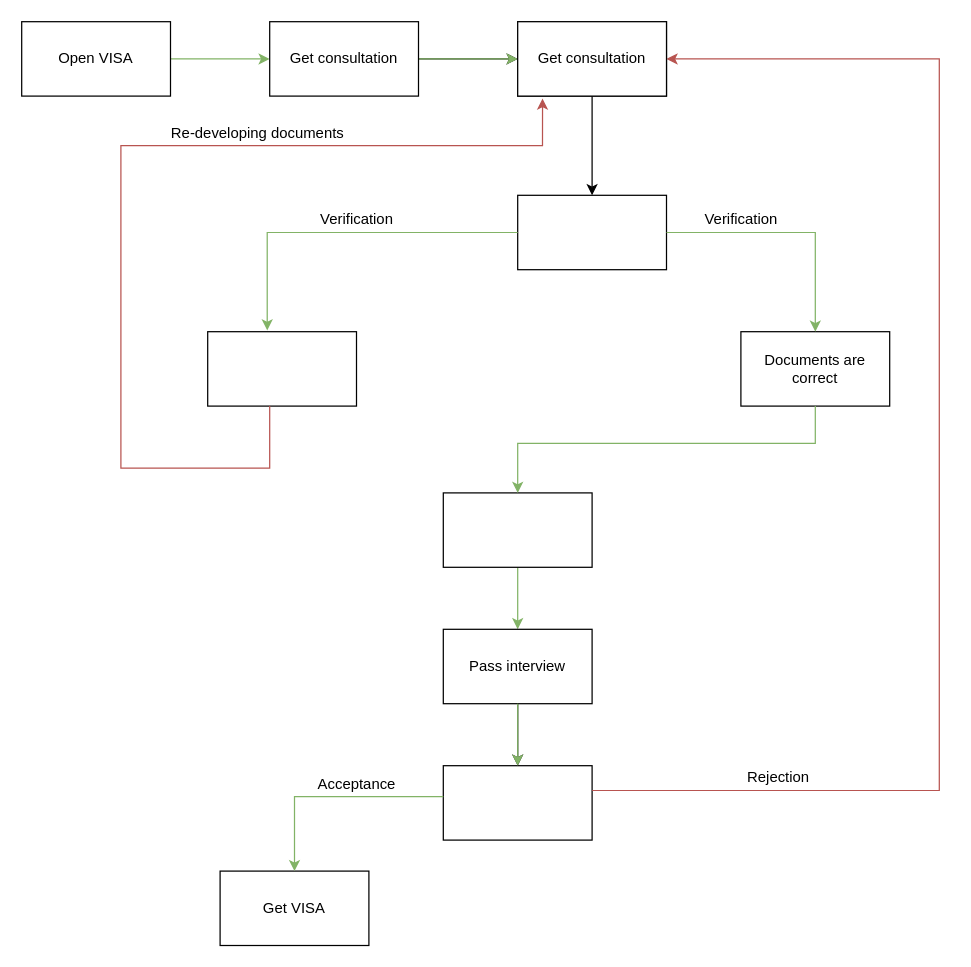
Some shapes in this 971 by 967 pixel diagram are drawn without their labels. The shapes that lost their labels are listed below. From the top down, each one's centre as x and y in pixels, then its label:
point (591, 232): Give documents to tour agency
point (281, 368): Documents have mistakes
point (517, 529): Pay consular fee
point (517, 802): Results of interview and documents in embassy
